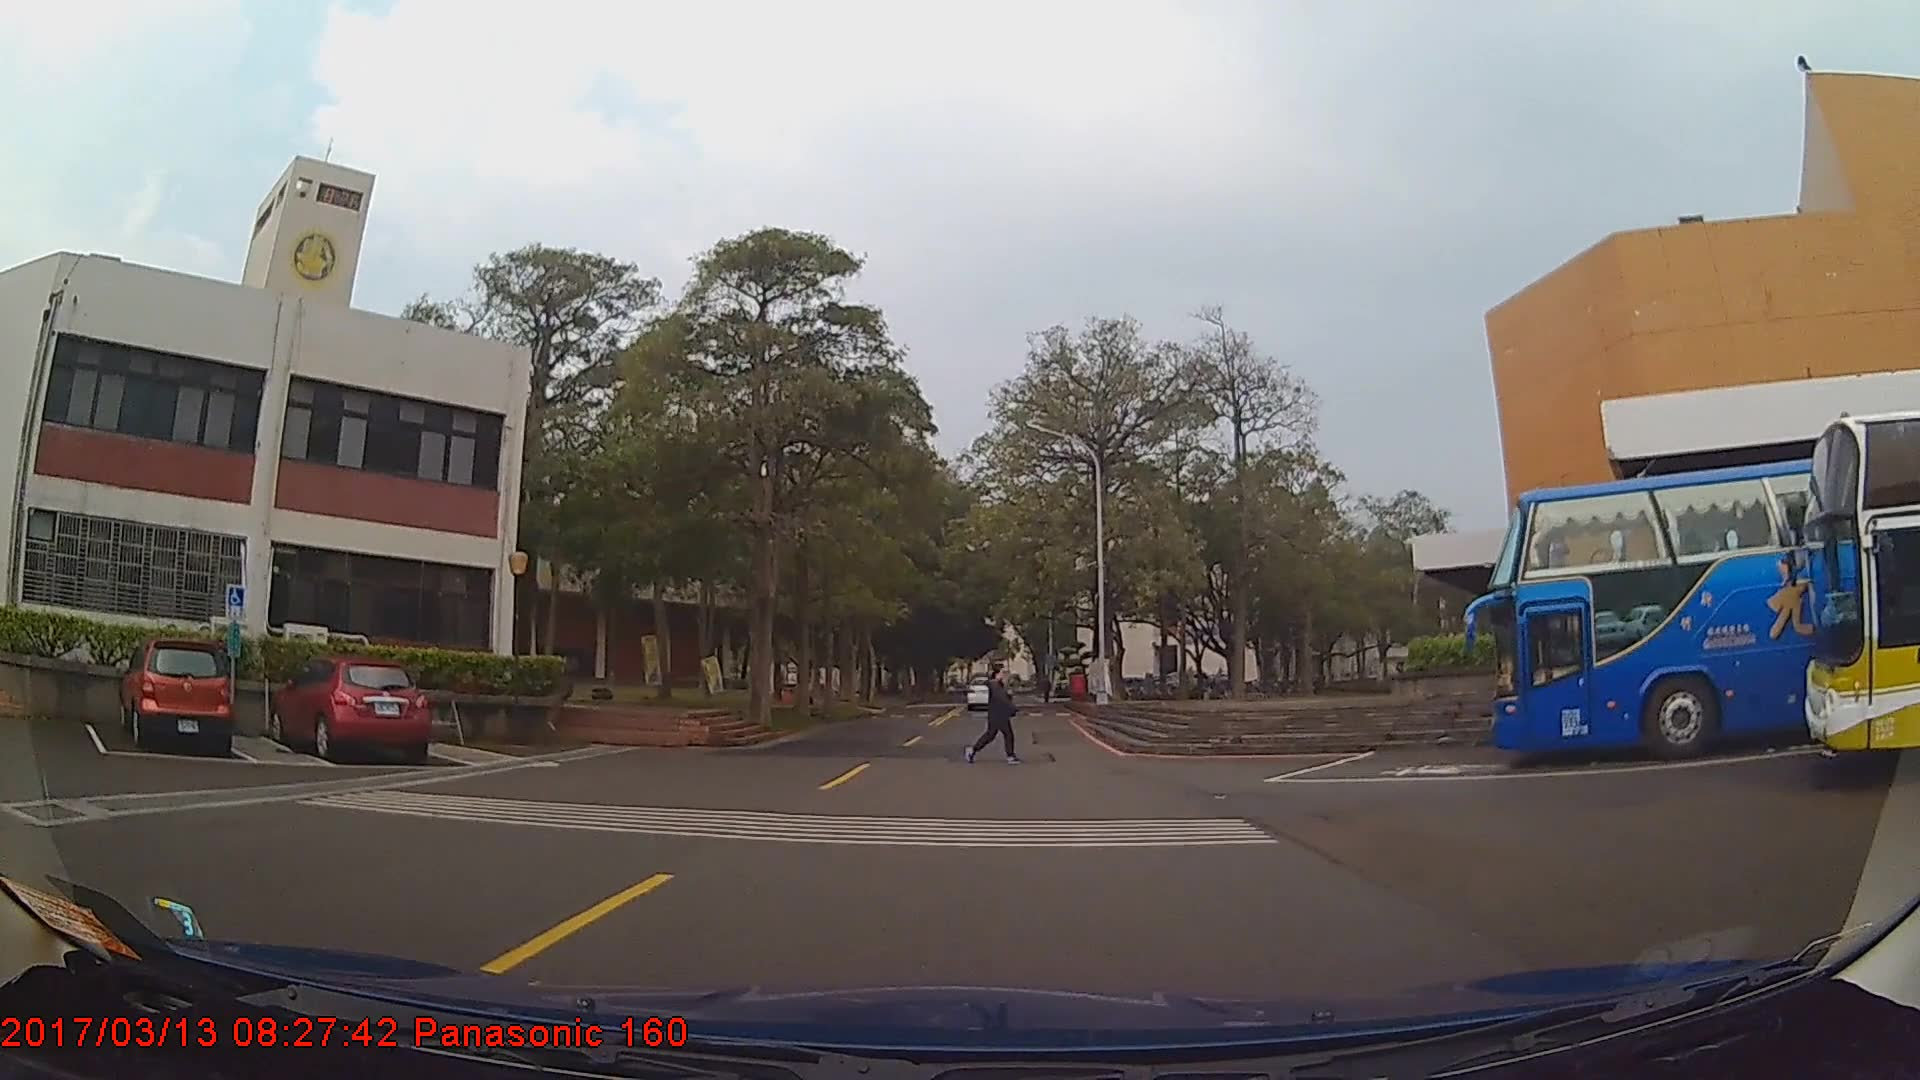pedestrian: (971, 662, 1026, 769)
vehicle: (1487, 439, 1920, 764), (265, 659, 426, 765), (118, 639, 230, 753), (967, 672, 1007, 709)
